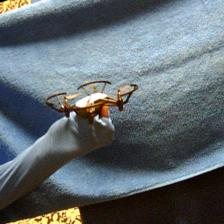drone: (44, 79, 138, 125)
